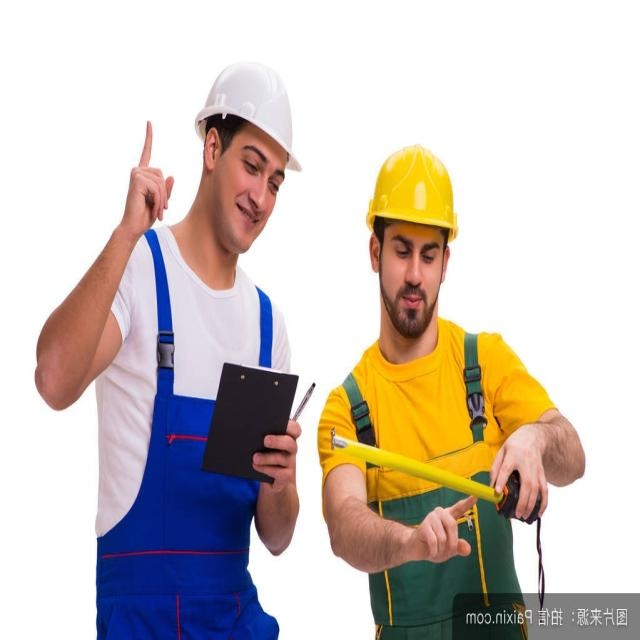Con_Casco: (195, 65, 301, 249), (370, 143, 454, 328)
Sin_Chaleco: (348, 334, 524, 589)
